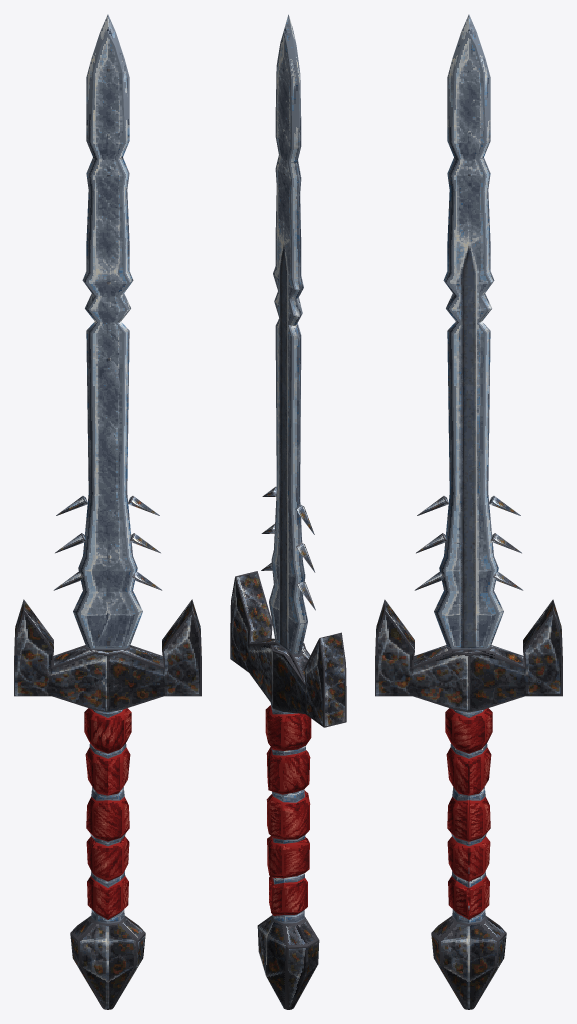
File: bloodletter.glb
3 views of the same model, side by side, from view 1: azimuth 90°, elevation 25°; view 2: azimuth 210°, elevation 25°; view 3: azimuth 270°, elevation 25° (orthographic).
Parts seen in each view (by area): view 1: bloodletter; view 2: bloodletter; view 3: bloodletter.
Part boxes in pixels (x1=…): bloodletter: x1=14, y1=14, x2=201, y2=1009; bloodletter: x1=230, y1=14, x2=346, y2=1009; bloodletter: x1=375, y1=14, x2=562, y2=1009.
Size of the model in its own units: 0.0632 by 1.33 by 0.2279.
1 material, 1 textured.
